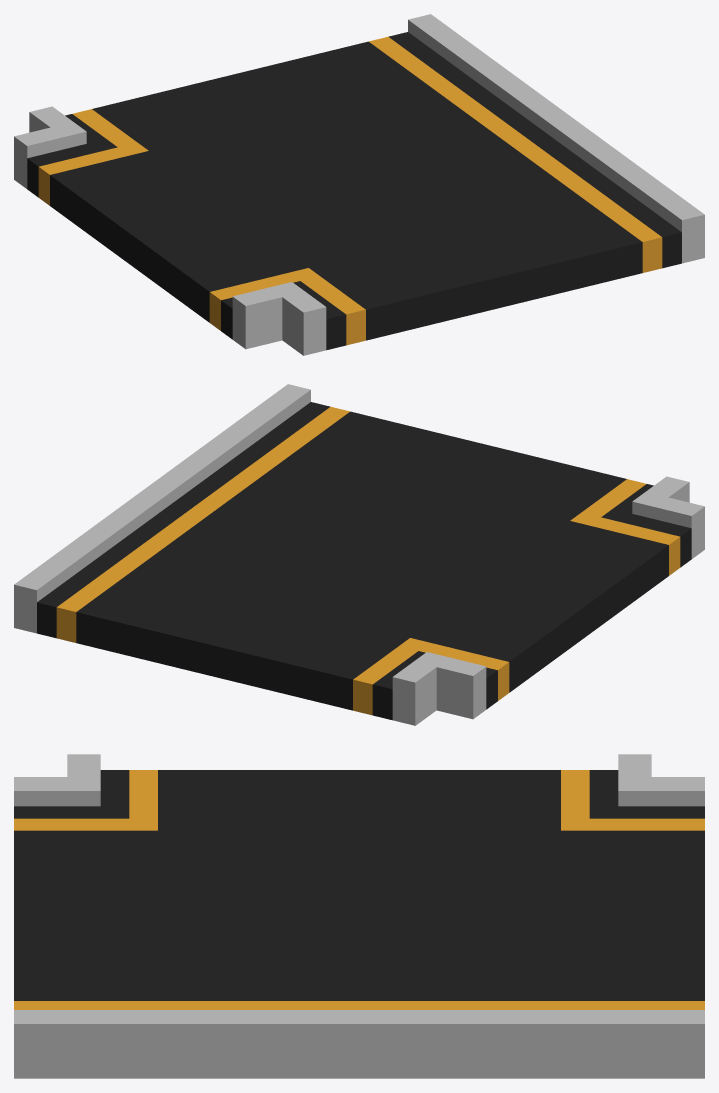
File: Road_3In.fbx
The picture shows the model from 3 angles, top to bottom: view 1: azimuth 30°, elevation 25°; view 2: azimuth 150°, elevation 25°; view 3: azimuth 270°, elevation 25°; orthographic projection. The views are drawn at different scales.
Parts seen in each view (by area): view 1: Road_3in; view 2: Road_3in; view 3: Road_3in.
Boxes of the visible parts, left/top/right/bottom form: Road_3in: left=14, top=14, right=704, bottom=355; Road_3in: left=14, top=384, right=704, bottom=725; Road_3in: left=14, top=754, right=704, bottom=1078.
Size of the model in its own units: 92.29 by 8.72 by 100.
